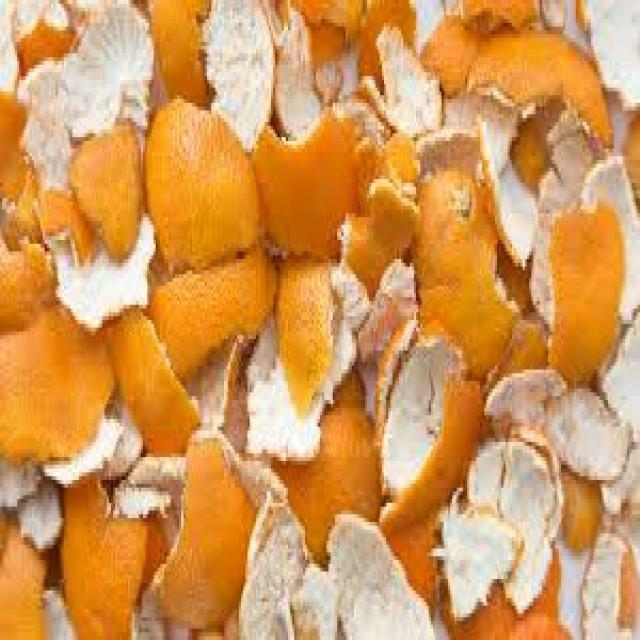Wet: (0, 0, 640, 640), (140, 100, 417, 478)
